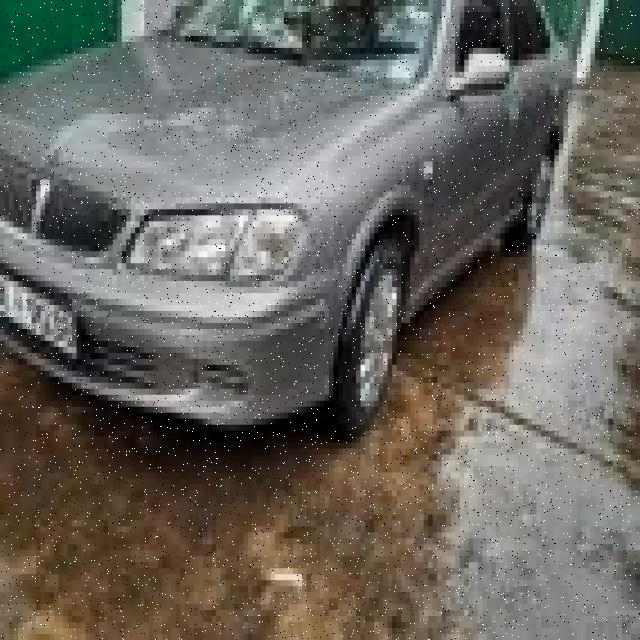car: (1, 3, 566, 435)
